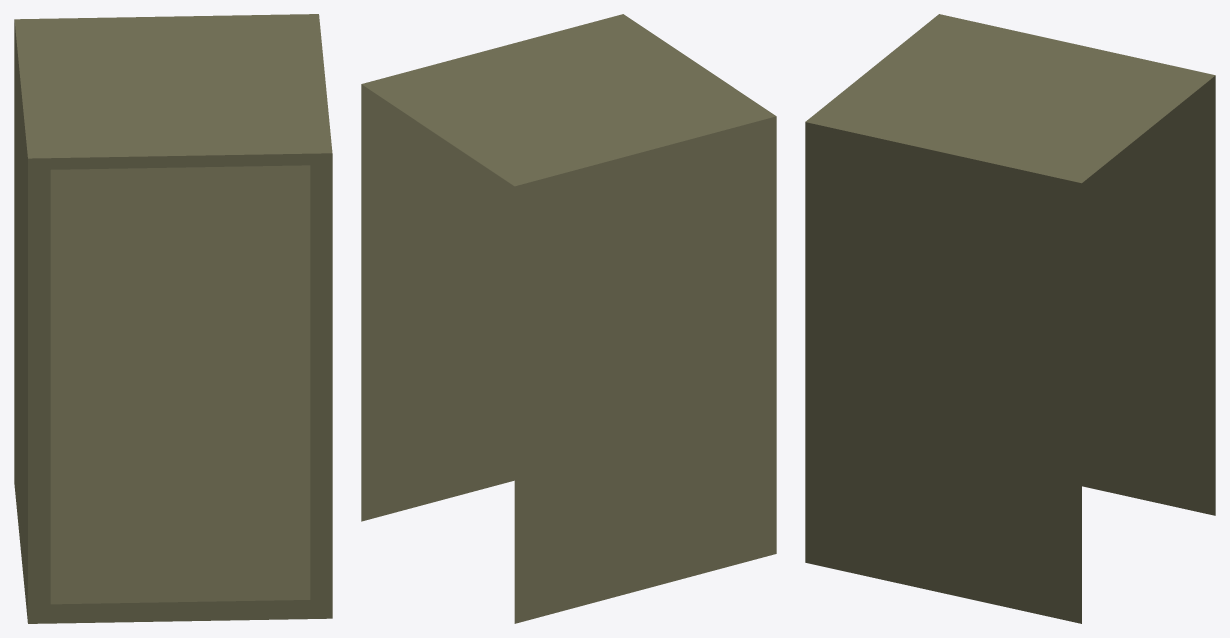
The model's file is MSH_QuestObject_locker_01.fbx.
3 views of the same model, side by side, from view 1: azimuth 30°, elevation 25°; view 2: azimuth 150°, elevation 25°; view 3: azimuth 270°, elevation 25° (orthographic). The views are drawn at different scales.
Visible parts, largest first — view 1: MSH_QuestObject_locker_01; view 2: MSH_QuestObject_locker_01; view 3: MSH_QuestObject_locker_01.
Part boxes in pixels (left/top/right/bottom): MSH_QuestObject_locker_01: left=14, top=14, right=332, bottom=623; MSH_QuestObject_locker_01: left=361, top=14, right=776, bottom=623; MSH_QuestObject_locker_01: left=805, top=14, right=1215, bottom=623.
Bounding box in the file's own units: 1.24 × 1.5 × 1.27.
